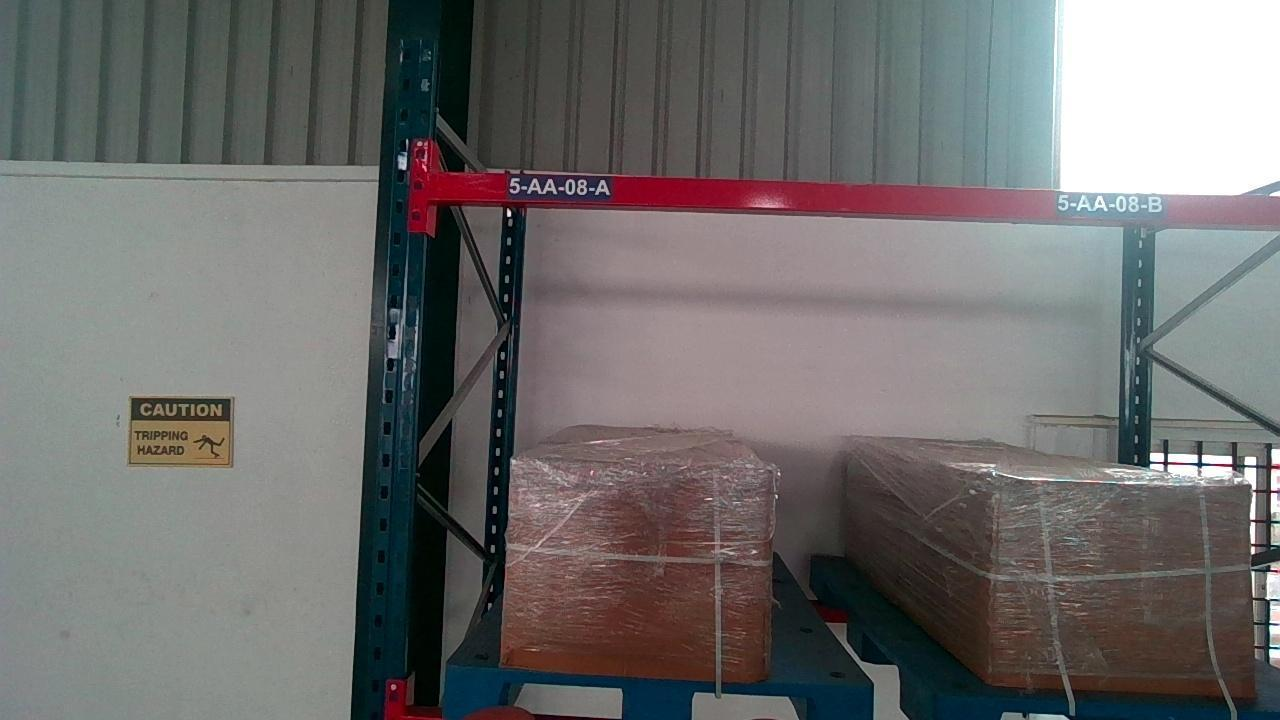h_rack: (424, 171, 1278, 231)
small_pallet: (446, 674, 863, 720), (901, 697, 1274, 720)
